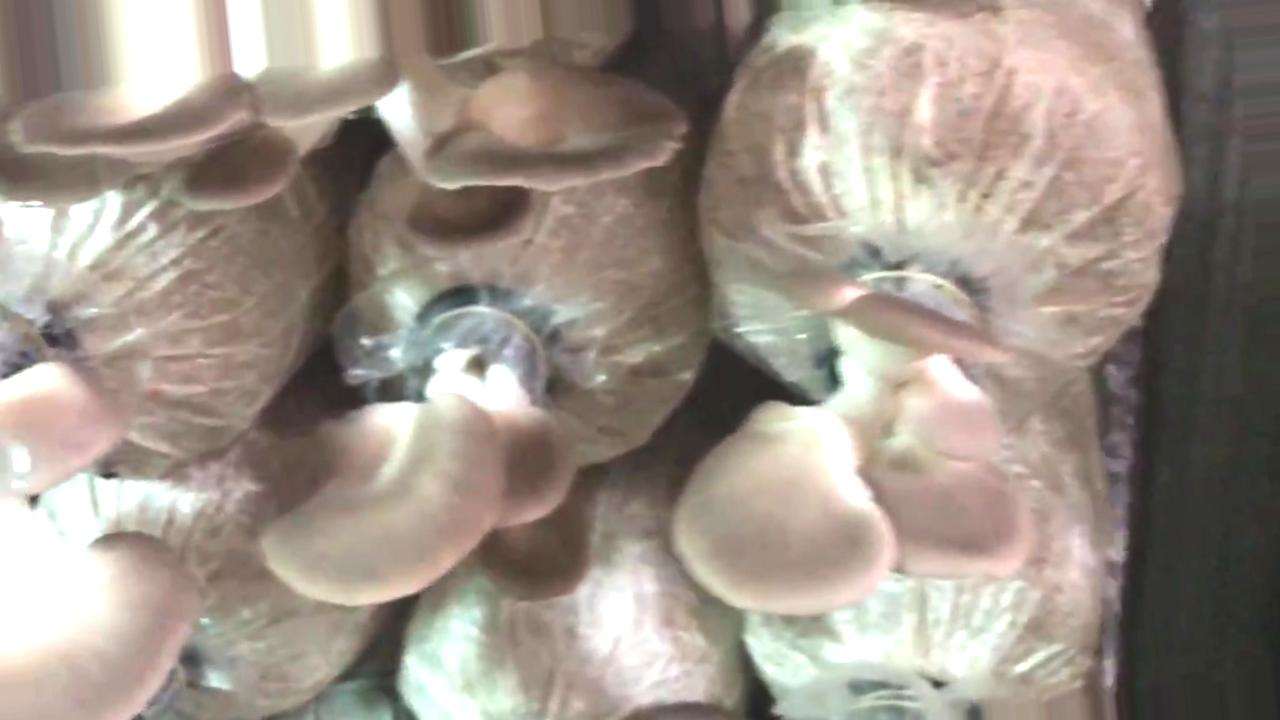nam: (667, 245, 1049, 621), (1, 53, 678, 256), (256, 288, 607, 618), (1, 355, 199, 717)
